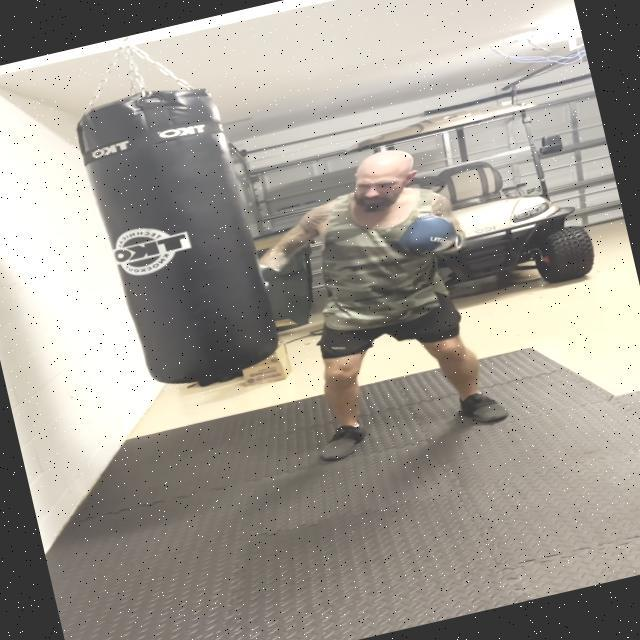bag: (71, 71, 282, 397)
hook: (203, 125, 481, 324)
